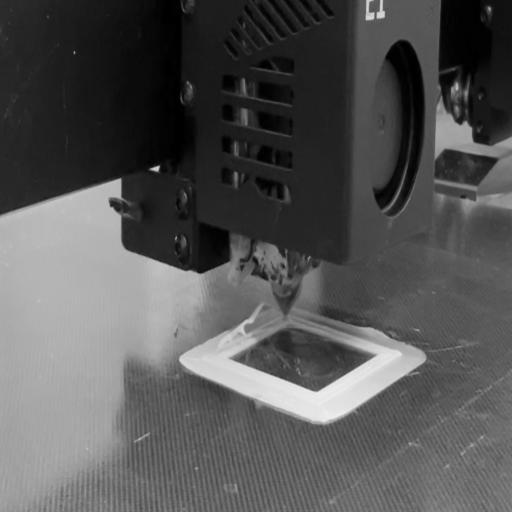spaghetti_and_stringing: (196, 301, 302, 352)
